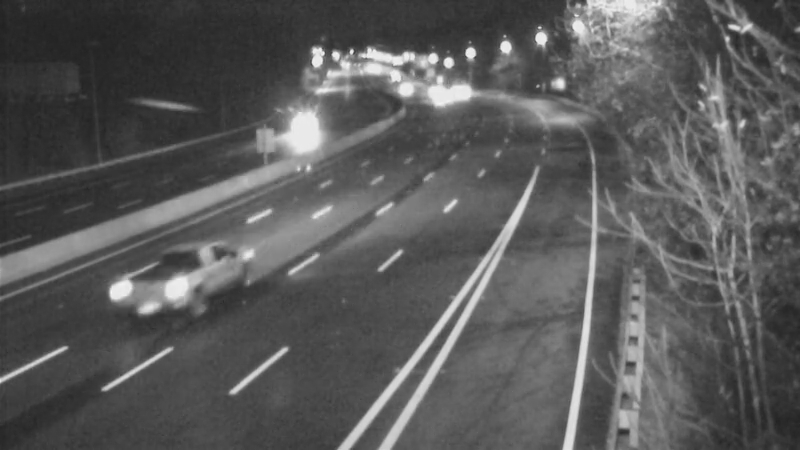vehicle: (130, 238, 210, 318), (378, 60, 428, 110), (407, 66, 457, 116), (442, 66, 492, 116), (410, 69, 460, 119), (277, 109, 327, 159)
